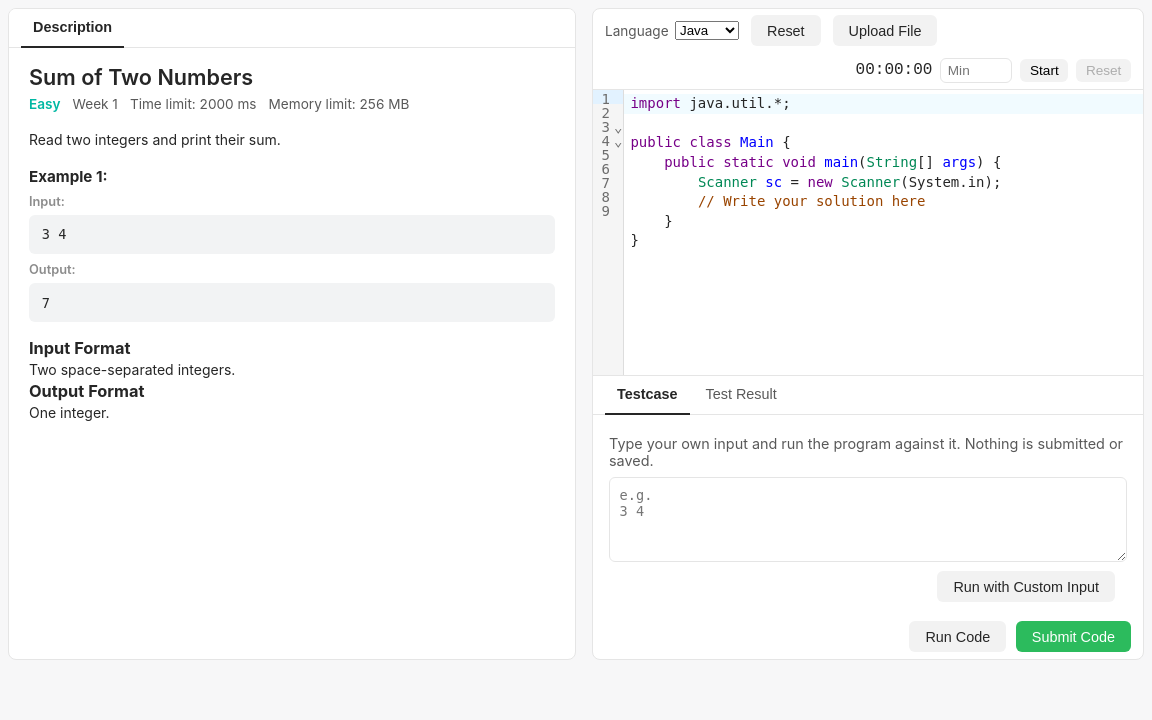
Test case: ProblemDetailPage › Run Code posts to /submissions/run, not /submissions
Expected: the heading "Sum of Two Numbers" is shown, [29,64,253,90]
Step 1. Click the button "Run Code" → point(958, 637), box [909,621,1006,652]
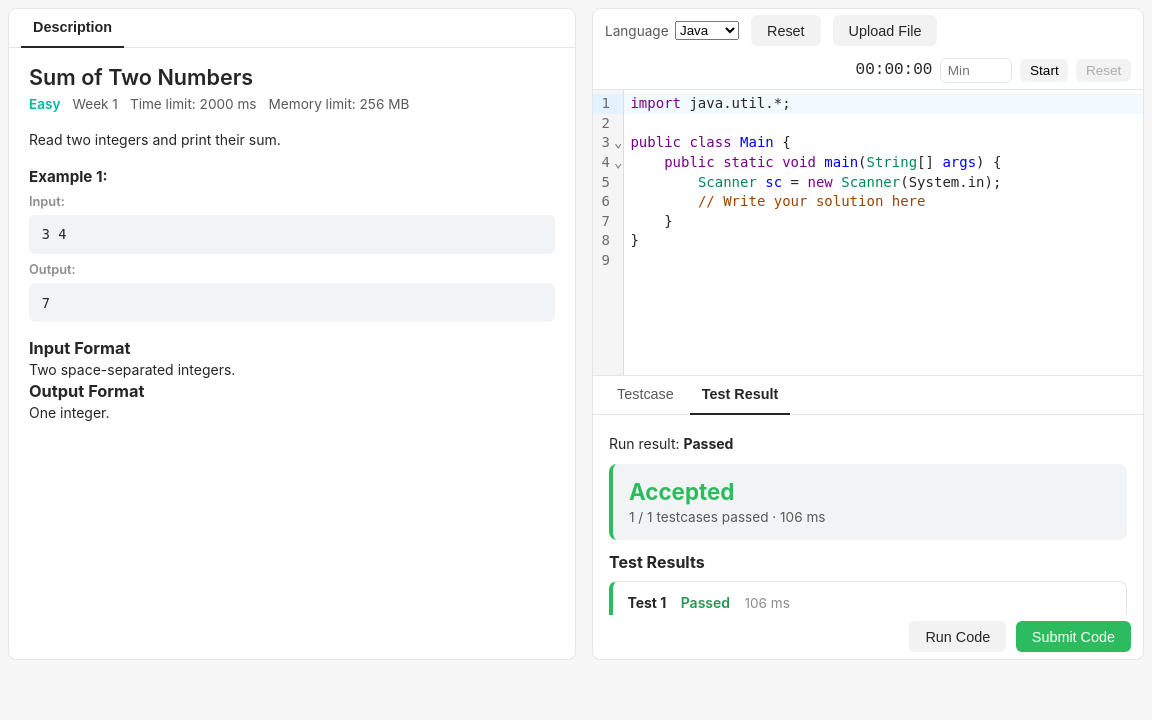
Result: the text "Run result:" is shown at [609,435,684,452]
Result: the text "Passed" next to "Run result:" is shown at [684,435,733,452]
Result: the text "106 ms" is shown at [744,595,790,611]
